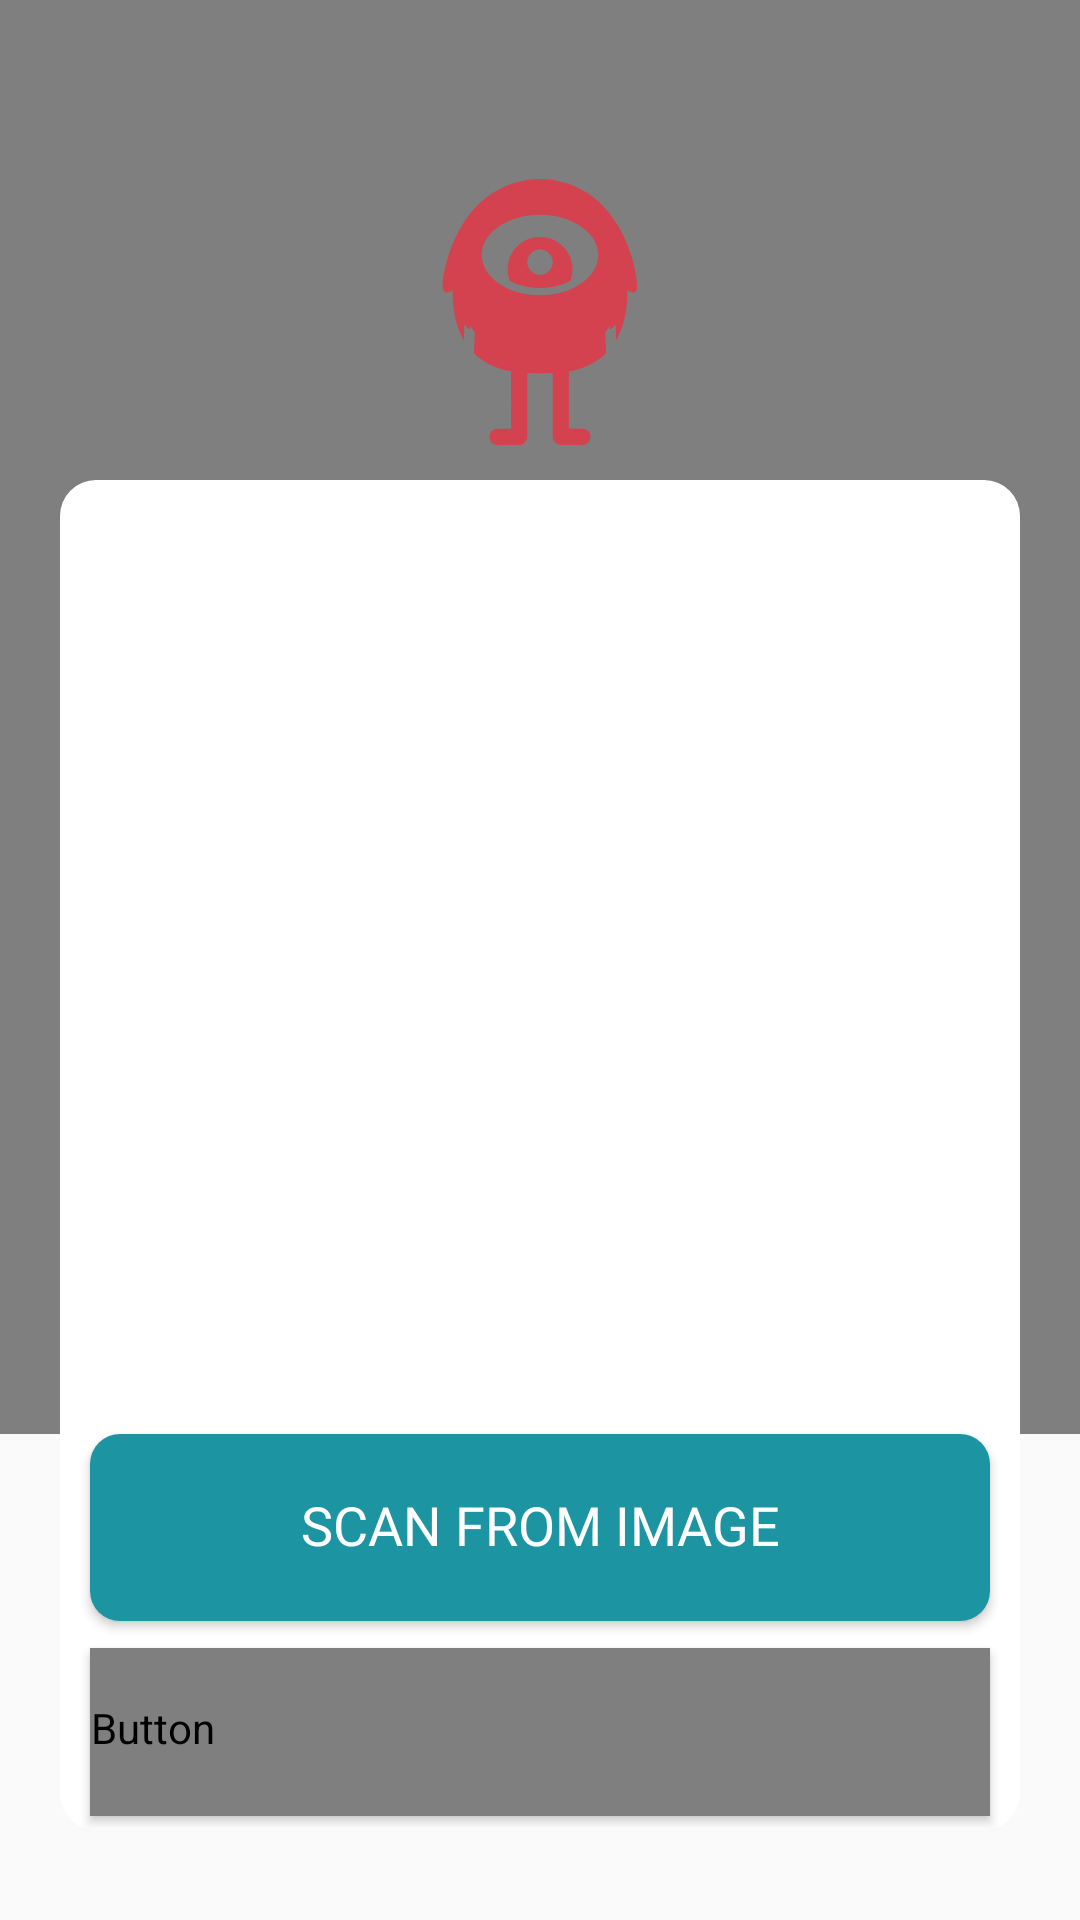

Screen size 1080 × 1920. Icon name, then its box in pixels as (x1, y1, x2, y2):
monster qr: (442, 179, 637, 445)
